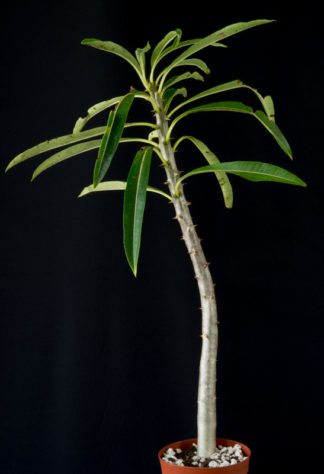Pachypodium meridionale: (82, 29, 284, 461)
